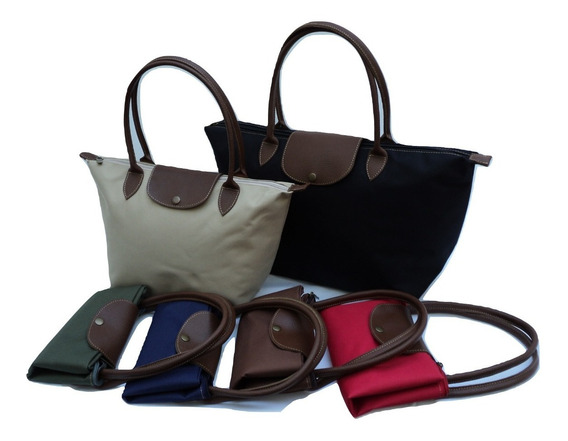cartera: (202, 21, 492, 301), (78, 55, 290, 336), (315, 285, 541, 422), (23, 281, 236, 387)
